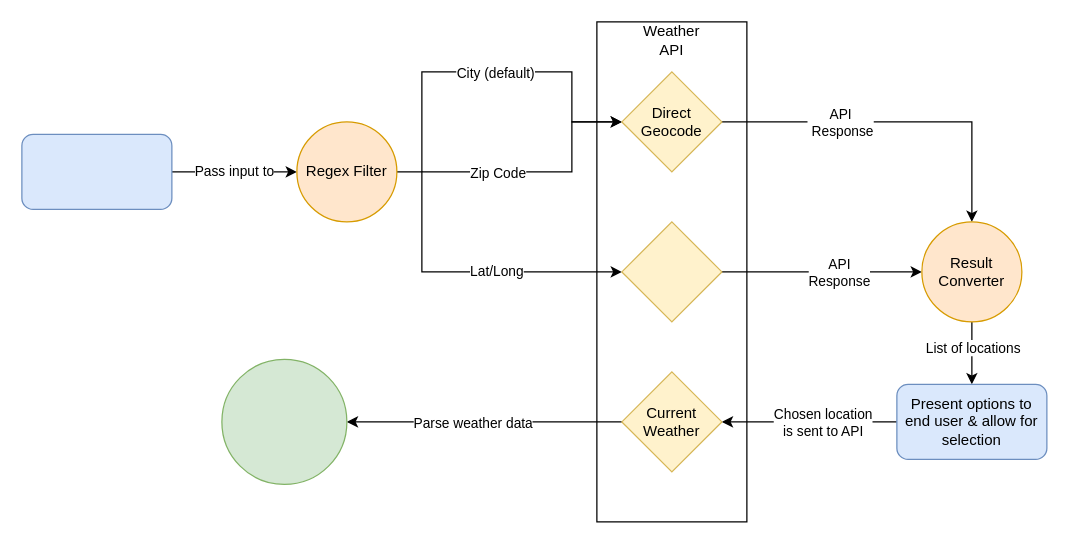
The diagram is 1069 pixels wide and 544 high, and some of its shapes have lost their labels. The centre of each missing label's shape, as x and y in pixels:
"Display selection's current weather" goes at (284,421).
"Reverse Geocode" goes at (671,271).
"User starts typing in search box" goes at (96,171).
